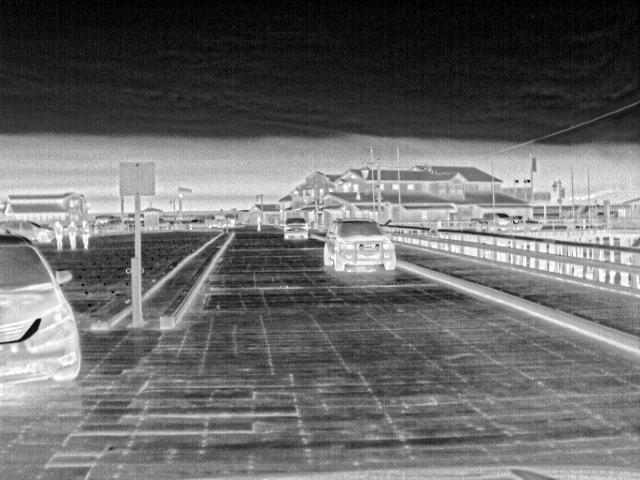car: (1, 233, 80, 389), (321, 220, 397, 271), (5, 218, 56, 244), (282, 218, 311, 244), (205, 214, 236, 228), (470, 211, 493, 225), (187, 218, 207, 230), (497, 212, 515, 225)
person: (51, 220, 65, 250), (65, 220, 78, 250), (78, 220, 91, 250), (256, 214, 263, 234)
